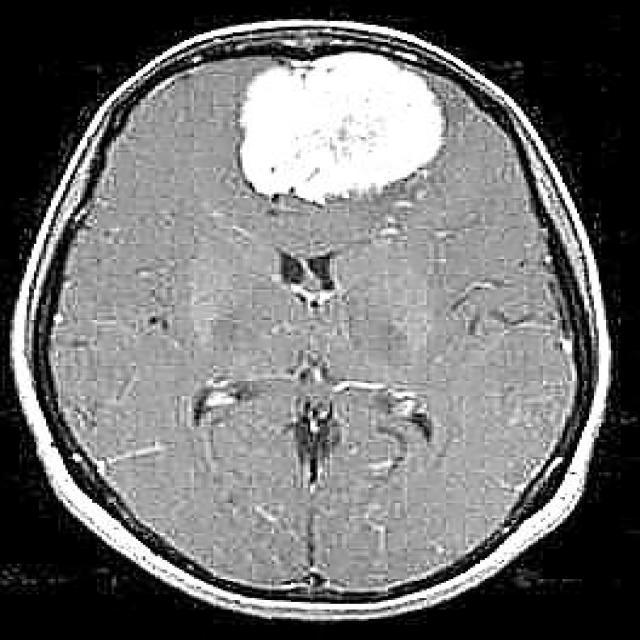Tumor: (224, 50, 464, 217)
